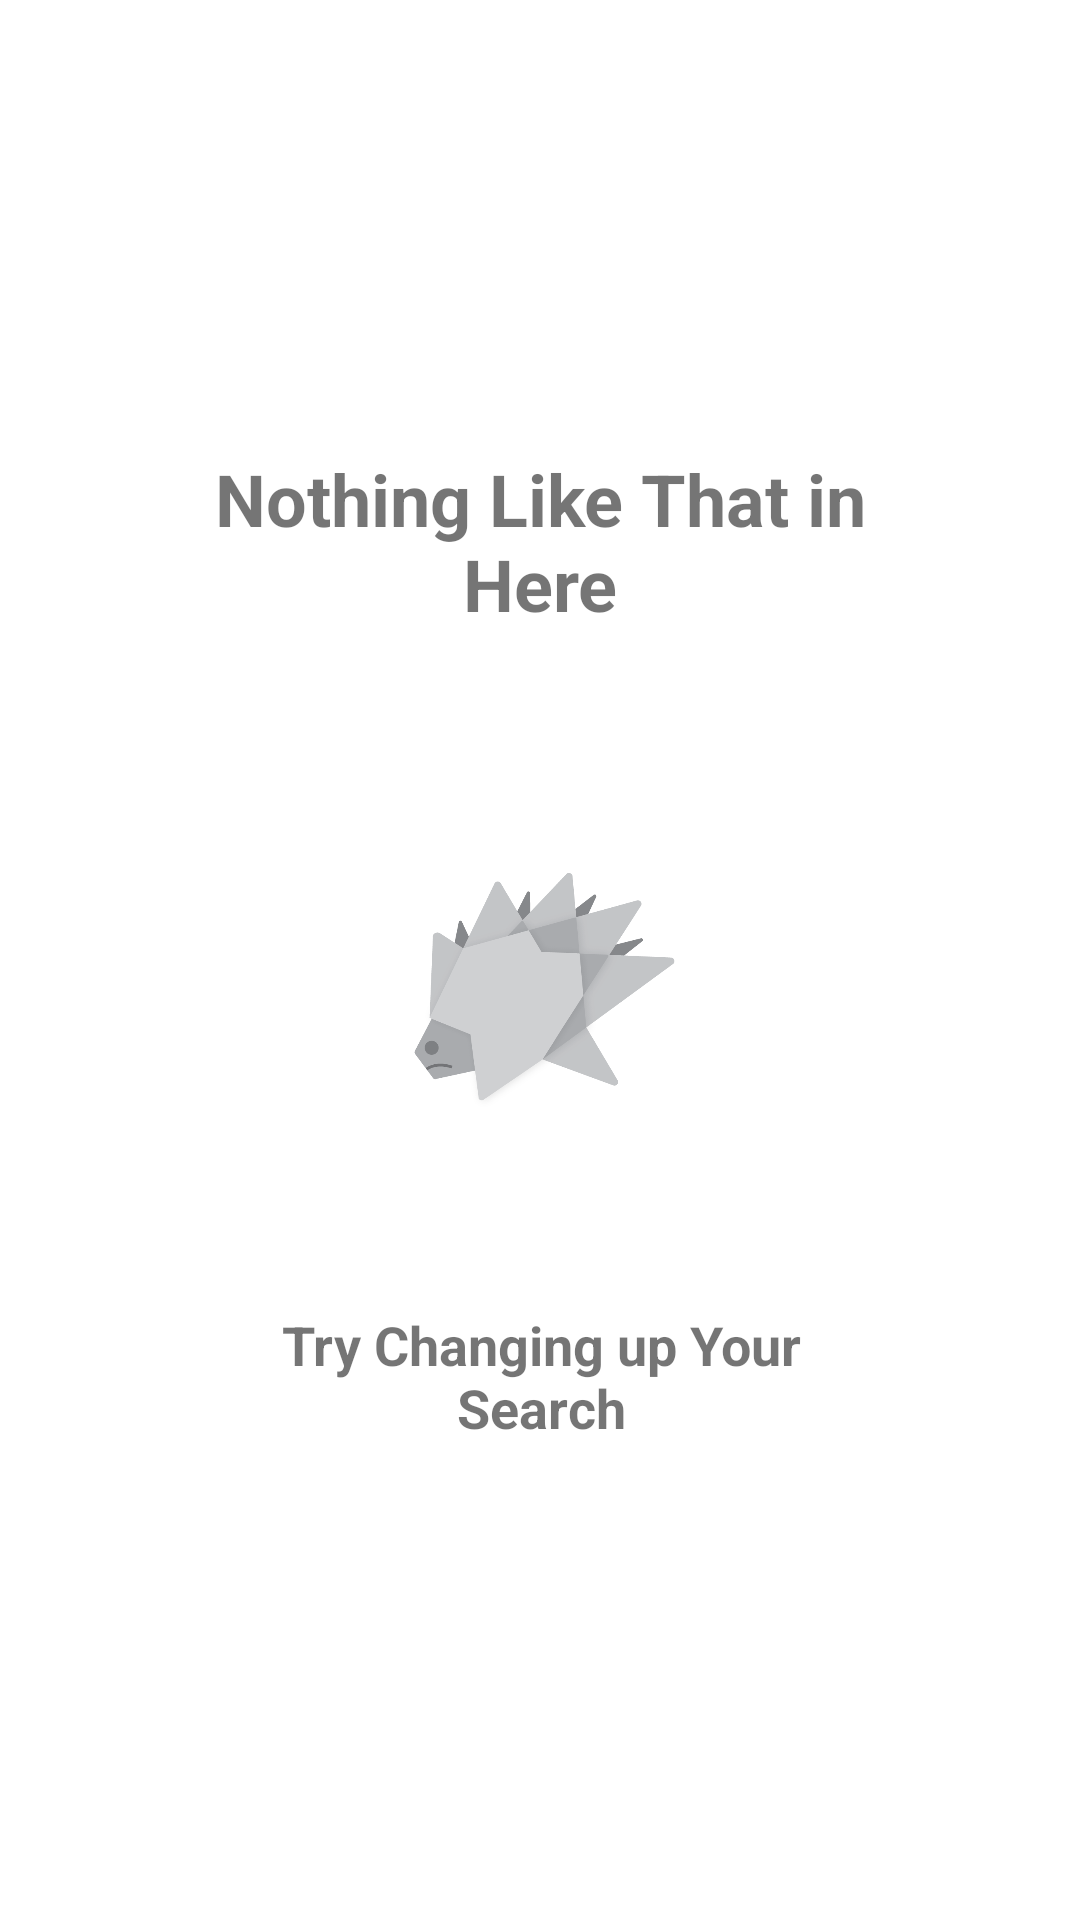

Locate icon controls on the screen. Image size 1080 x 1920, boxes as (x1, y1, x2, y2).
sad porkie: (414, 873, 674, 1100)
